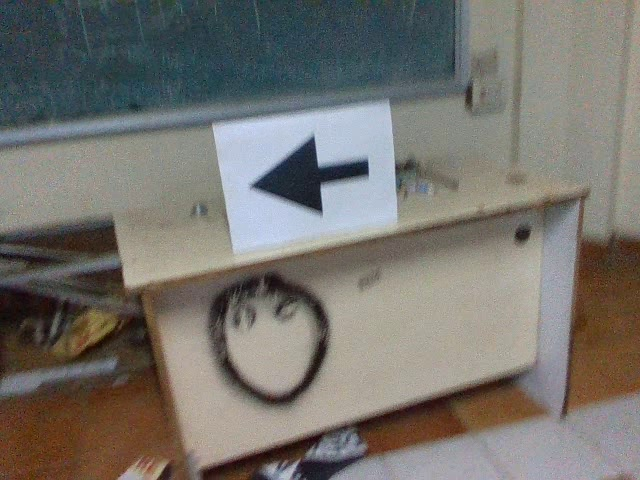Left: (242, 127, 371, 217)
